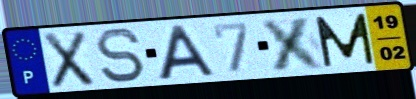7: (210, 20, 252, 75)
A: (155, 23, 218, 82)
M: (312, 12, 378, 70)
S: (93, 26, 148, 85)
X: (257, 14, 329, 73), (41, 29, 96, 90)
